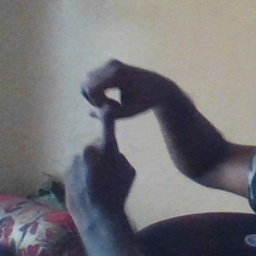Q: (57, 58, 158, 206)
